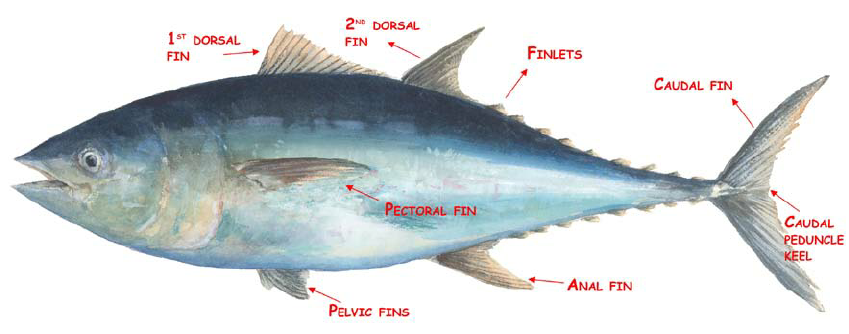Bluefina Tuna: (15, 28, 835, 320)
